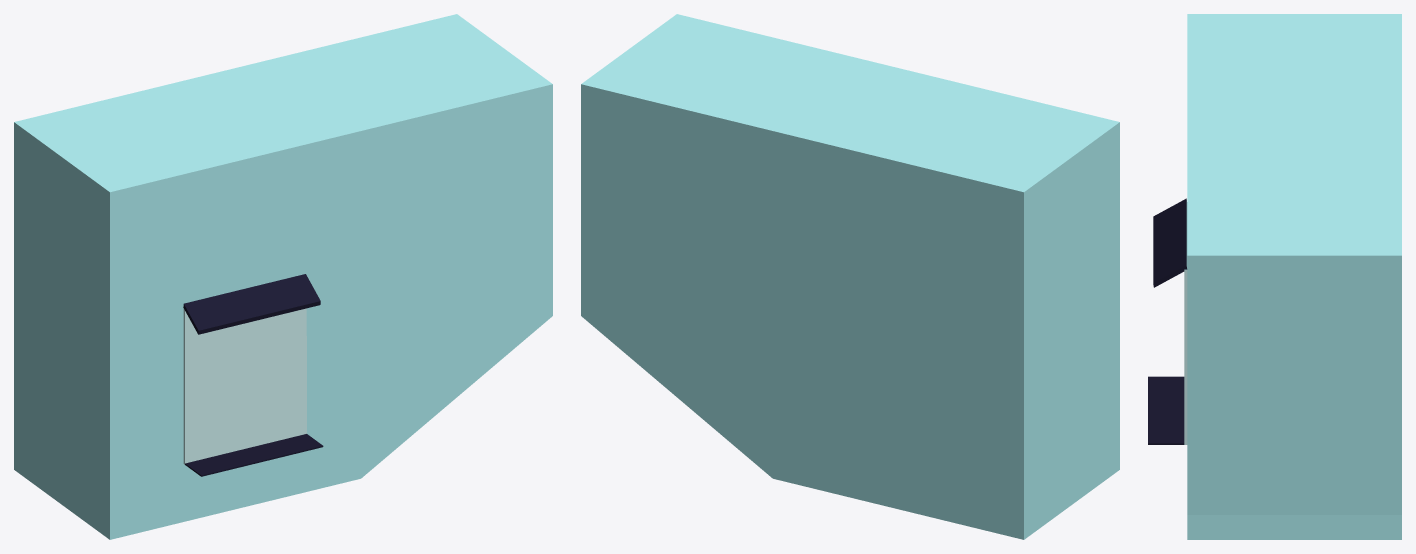
The picture shows the model from 3 angles, left to right: view 1: azimuth 30°, elevation 25°; view 2: azimuth 150°, elevation 25°; view 3: azimuth 270°, elevation 25°; orthographic projection. The views are drawn at different scales.
Visible parts, largest first — view 1: Mesh_0.015; view 2: Mesh_0.015; view 3: Mesh_0.015.
Part boxes in pixels (box(x1,y1,x2,y2)): Mesh_0.015: box(14, 14, 552, 539); Mesh_0.015: box(581, 14, 1119, 539); Mesh_0.015: box(1148, 14, 1401, 539).
Bounding box in the file's own units: 4 × 3 × 1.77.
